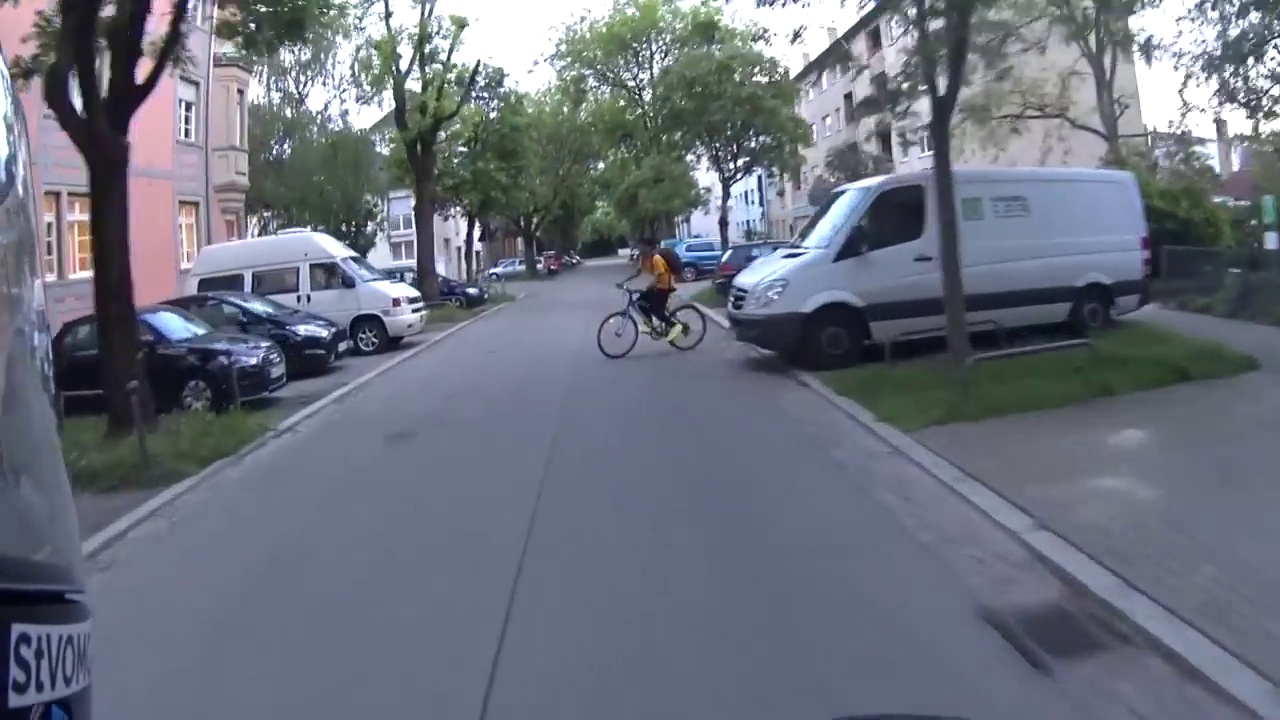cyclist_side: (596, 245, 717, 353)
